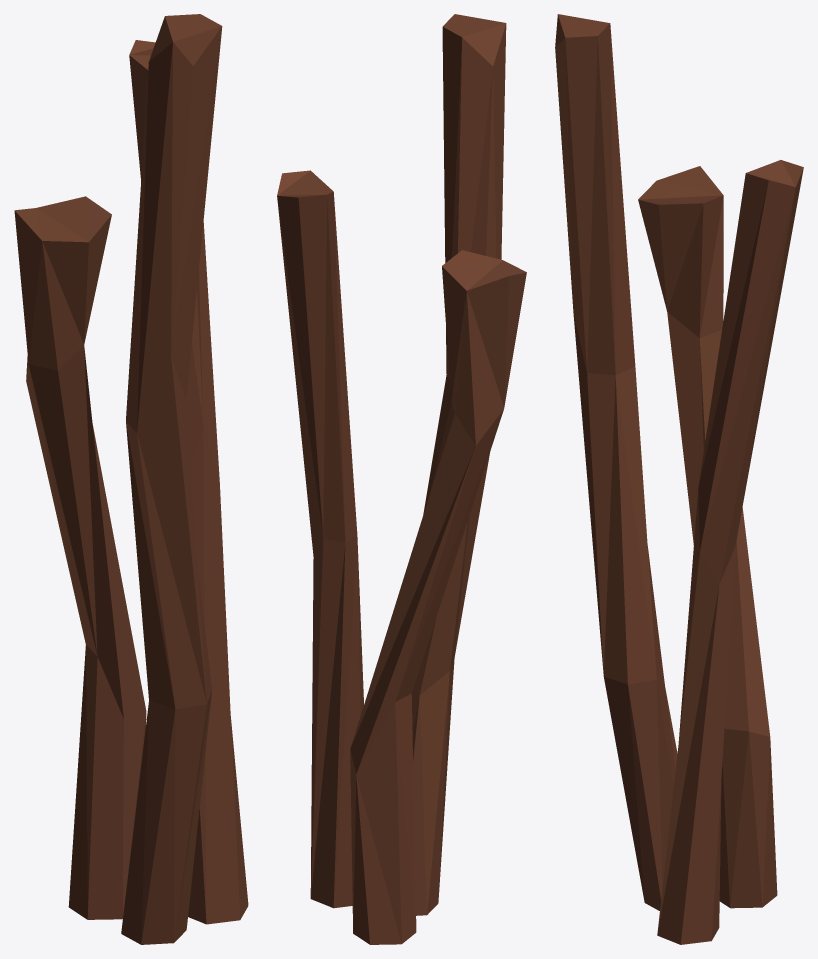
Rendered from Wooden Sticks_3.fbx.
3 views of the same model, side by side, from view 1: azimuth 30°, elevation 25°; view 2: azimuth 150°, elevation 25°; view 3: azimuth 270°, elevation 25° (orthographic). The views are drawn at different scales.
Visible parts, largest first — view 1: Wooden Sticks_3; view 2: Wooden Sticks_3; view 3: Wooden Sticks_3.
Boxes of the visible parts, box(x1,y1,x2,y2) form: Wooden Sticks_3: box(14, 14, 248, 944); Wooden Sticks_3: box(277, 14, 526, 944); Wooden Sticks_3: box(555, 14, 803, 944).
Bounding box in the file's own units: 0.4347 × 1.76 × 0.458.
